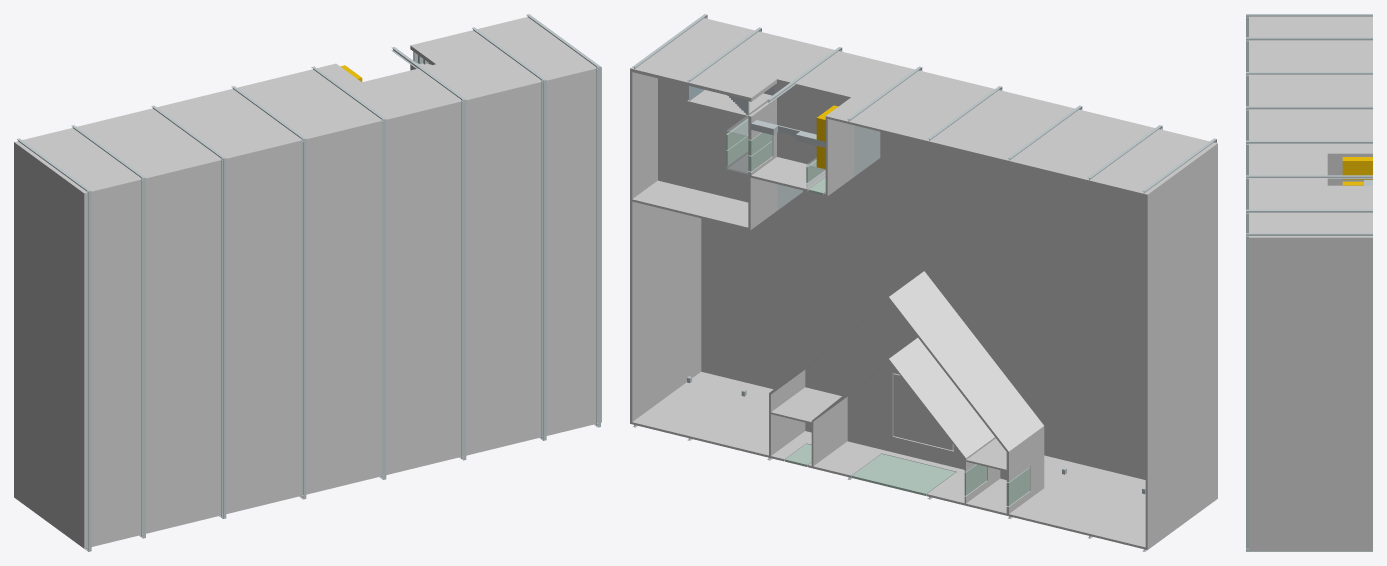
Rendered from ETpathfinder_Cleanroom.glb.
3 renders of one model, left to right at view 1: azimuth 30°, elevation 25°; view 2: azimuth 150°, elevation 25°; view 3: azimuth 270°, elevation 25°, orthographic. The views are drawn at different scales.
Visible parts, largest first — view 1: %UL=V1.0 PH=ypIAQAfL4qM_vD; view 2: %UL=V1.0 PH=ypIAQAfL4qM_vD; view 3: %UL=V1.0 PH=ypIAQAfL4qM_vD.
Part boxes in pixels (x1=…): %UL=V1.0 PH=ypIAQAfL4qM_vD: x1=14, y1=14, x2=601, y2=551; %UL=V1.0 PH=ypIAQAfL4qM_vD: x1=630, y1=14, x2=1217, y2=551; %UL=V1.0 PH=ypIAQAfL4qM_vD: x1=1246, y1=14, x2=1372, y2=551.
Bounding box in the file's own units: 34.9 × 23.22 × 8.4.
